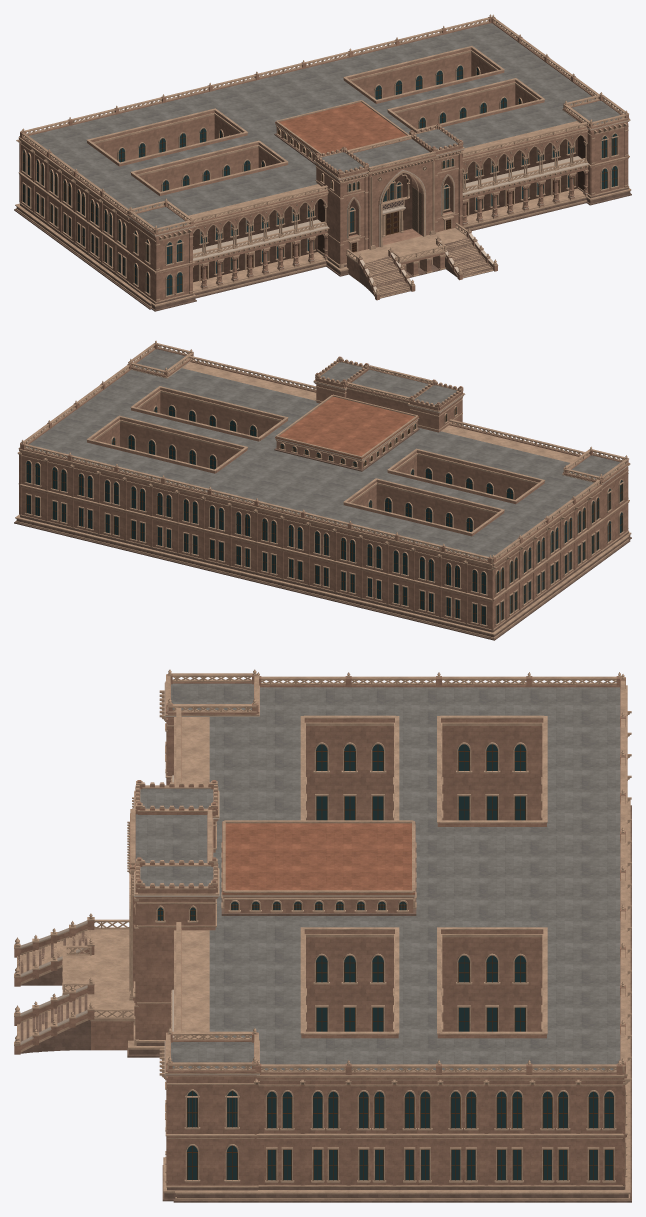
Rendered from arts-college.glb.
3 views of the same model, one above another, from view 1: azimuth 30°, elevation 25°; view 2: azimuth 150°, elevation 25°; view 3: azimuth 270°, elevation 25° (orthographic). The views are drawn at different scales.
Parts seen in each view (by area): view 1: Courtyard Ranges, Granite Stylobate, East Gallery; view 2: Courtyard Ranges, Granite Stylobate; view 3: Courtyard Ranges, Granite Stylobate.
Boxes of the visible parts, bbox=[...] form: Courtyard Ranges: bbox=[19, 17, 630, 301]; Granite Stylobate: bbox=[14, 14, 631, 311]; East Gallery: bbox=[193, 135, 585, 282]; Courtyard Ranges: bbox=[19, 343, 630, 630]; Granite Stylobate: bbox=[14, 340, 631, 640]; Courtyard Ranges: bbox=[14, 674, 626, 1185]; Granite Stylobate: bbox=[14, 669, 631, 1202].
Bounding box in the file's own units: 110 × 22.58 × 72.53.
7 materials, 7 textured.
